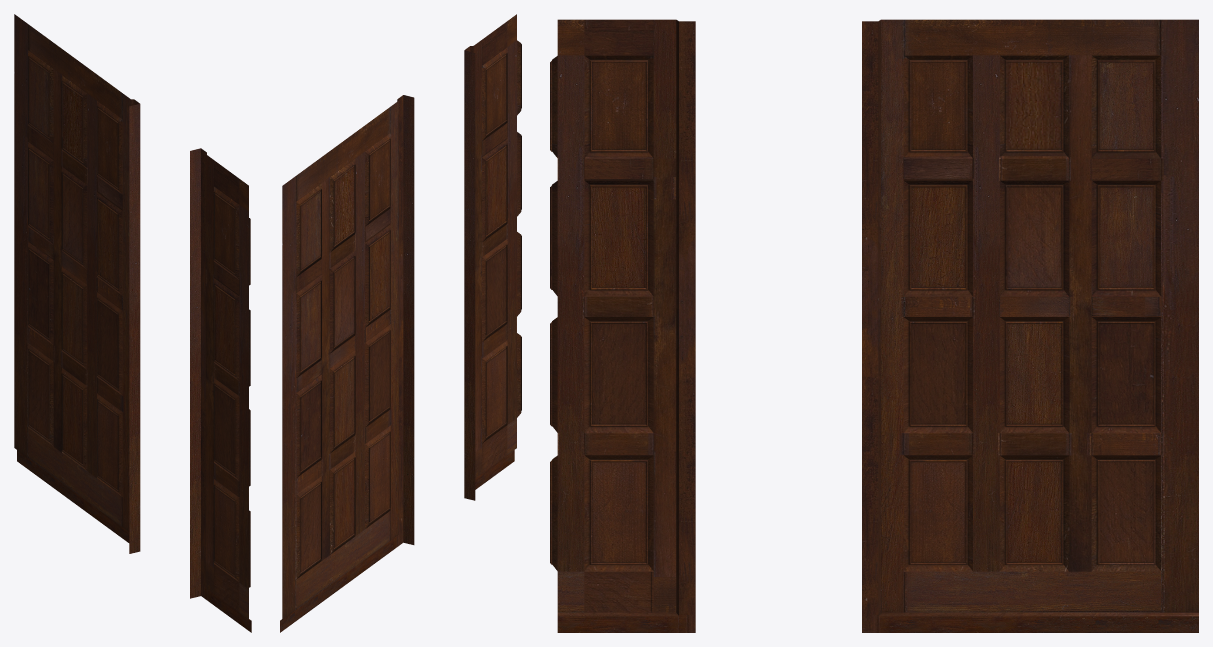
File: Template.001.obj
3 views of the same model, side by side, from view 1: azimuth 30°, elevation 25°; view 2: azimuth 150°, elevation 25°; view 3: azimuth 270°, elevation 25° (orthographic). The views are drawn at different scales.
Visible parts, largest first — view 1: Template.001; view 2: Template.001; view 3: Template.001.
Boxes of the visible parts, x1,y1,x2,y2 form: Template.001: (14, 14, 251, 632); Template.001: (280, 14, 521, 632); Template.001: (550, 19, 1198, 632).
Bounding box in the file's own units: 0.0605 × 2.35 × 2.25.
